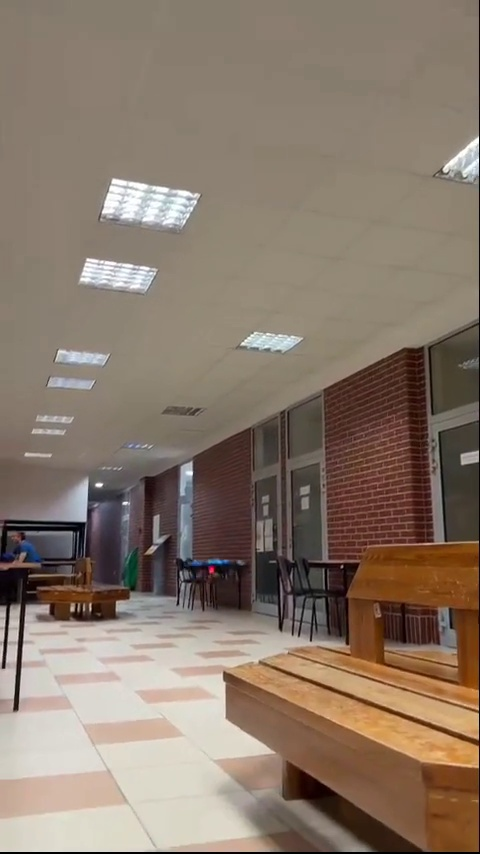drone: (176, 553, 251, 581)
no vest: (5, 523, 38, 599)
